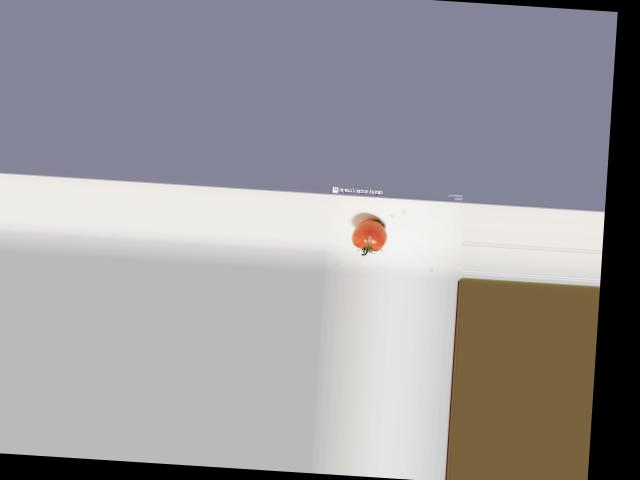tomato: (352, 218, 388, 251)
